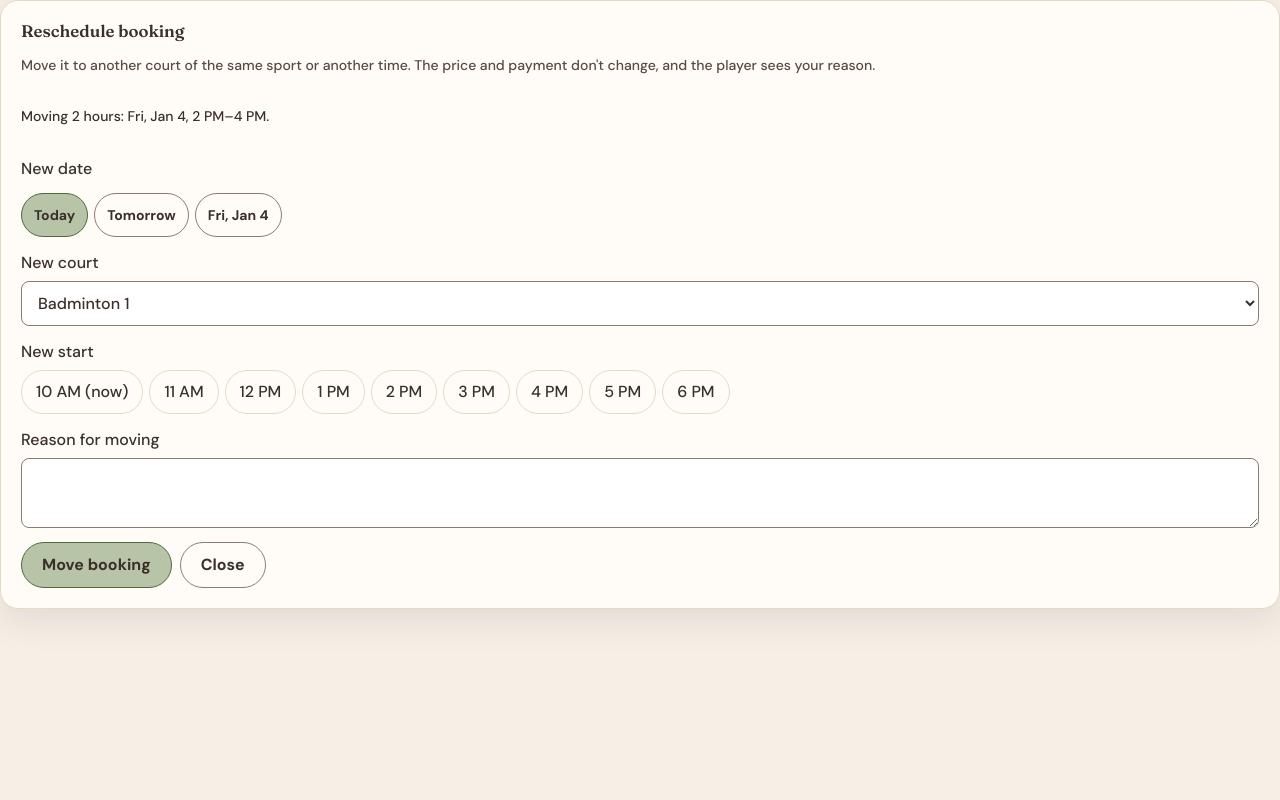
Scenario: RescheduleForm › says when no start has enough free hours on that court
Select "Badminton 2" in the dropdown labelled "New court": (640,304) [21,281,1259,326]
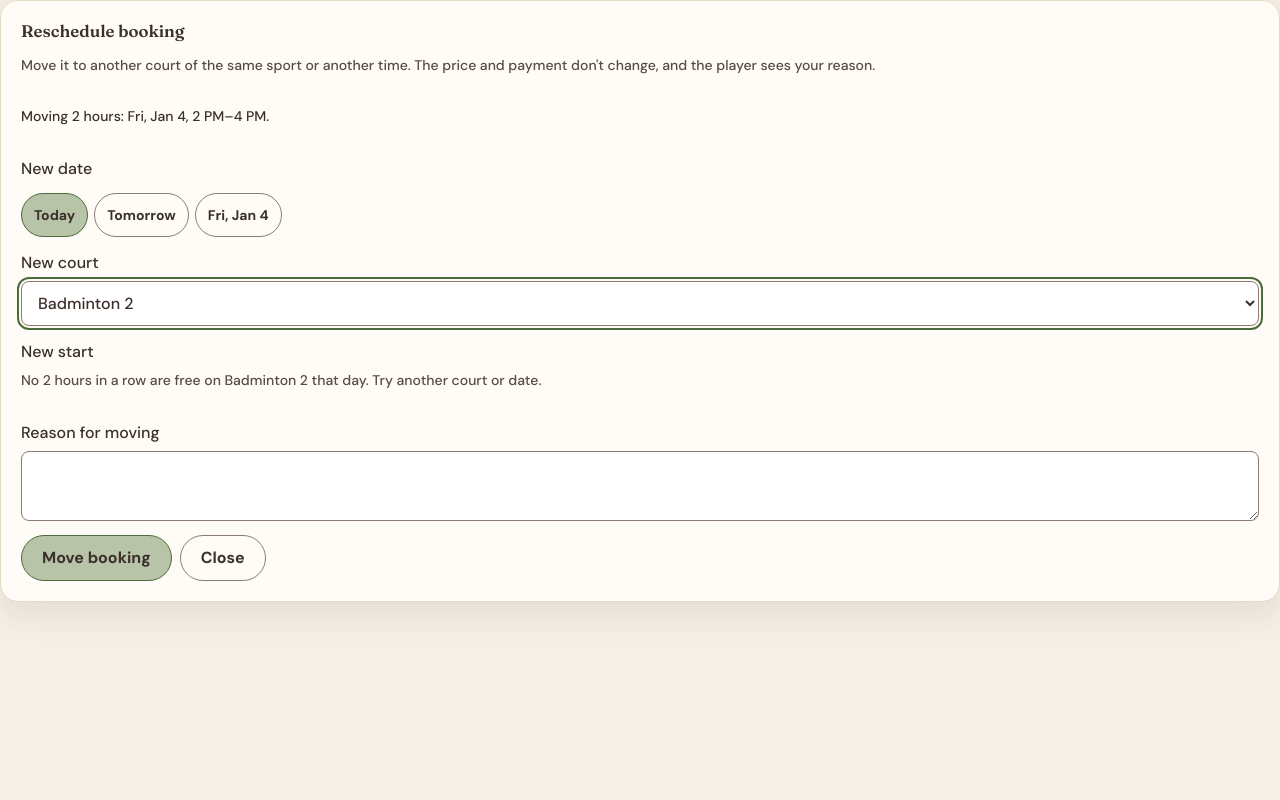
Result: the text "No 2 hours in a row are free on Badminton 2 that day" is shown at [21,371,541,389]
